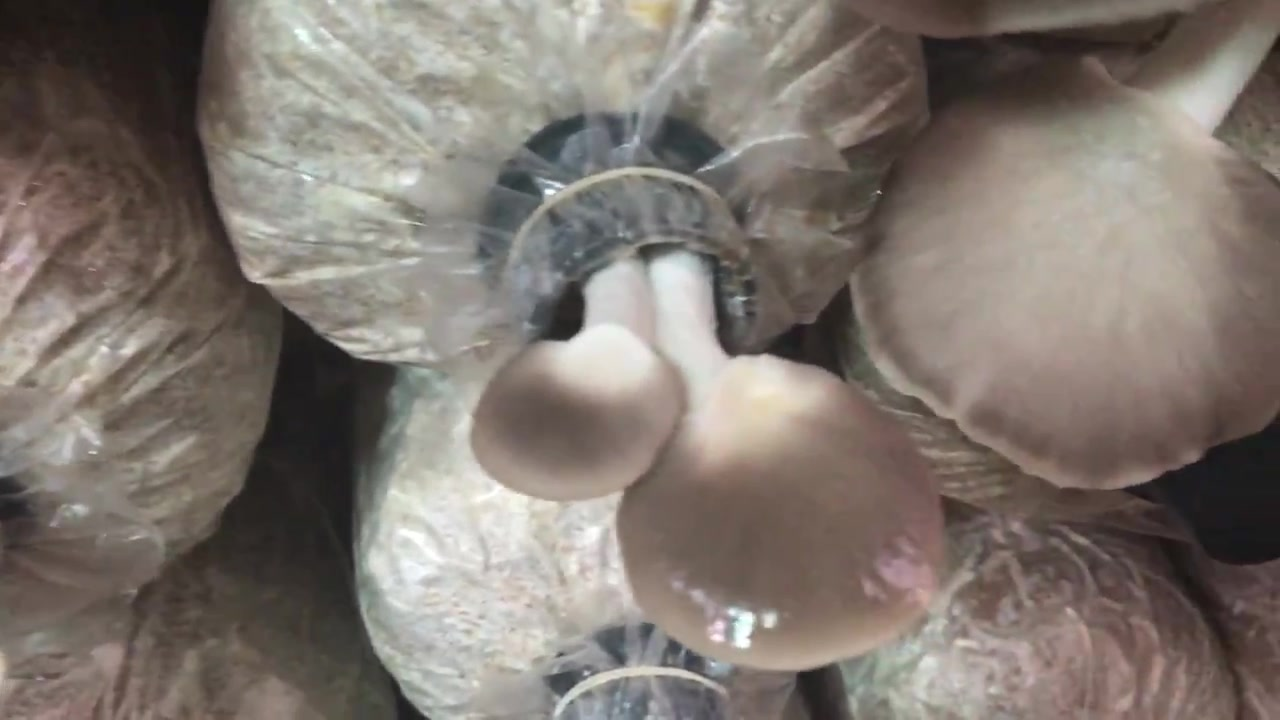nam: (464, 139, 948, 678), (848, 2, 1280, 491)
